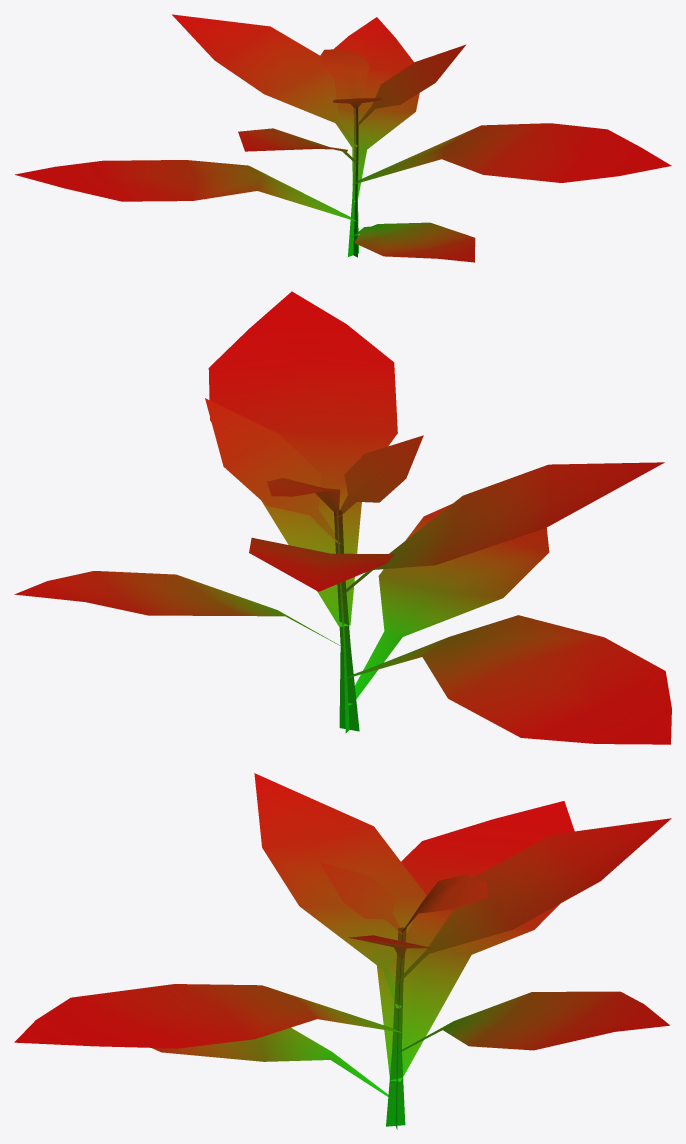
The model's file is Small Balsam_LOD2_Var1_xefmcgrqx.fbx.
3 renders of one model, top to bottom at view 1: azimuth 30°, elevation 25°; view 2: azimuth 150°, elevation 25°; view 3: azimuth 270°, elevation 25°, orthographic. The views are drawn at different scales.
Parts seen in each view (by area): view 1: _waey_Var1_LOD2; view 2: _waey_Var1_LOD2; view 3: _waey_Var1_LOD2.
Boxes of the visible parts, x1,y1,x2,y2 form: _waey_Var1_LOD2: [15, 14, 671, 262]; _waey_Var1_LOD2: [14, 291, 671, 744]; _waey_Var1_LOD2: [14, 773, 671, 1129].
Size of the model in its own units: 25.75 by 10.31 by 23.59.
